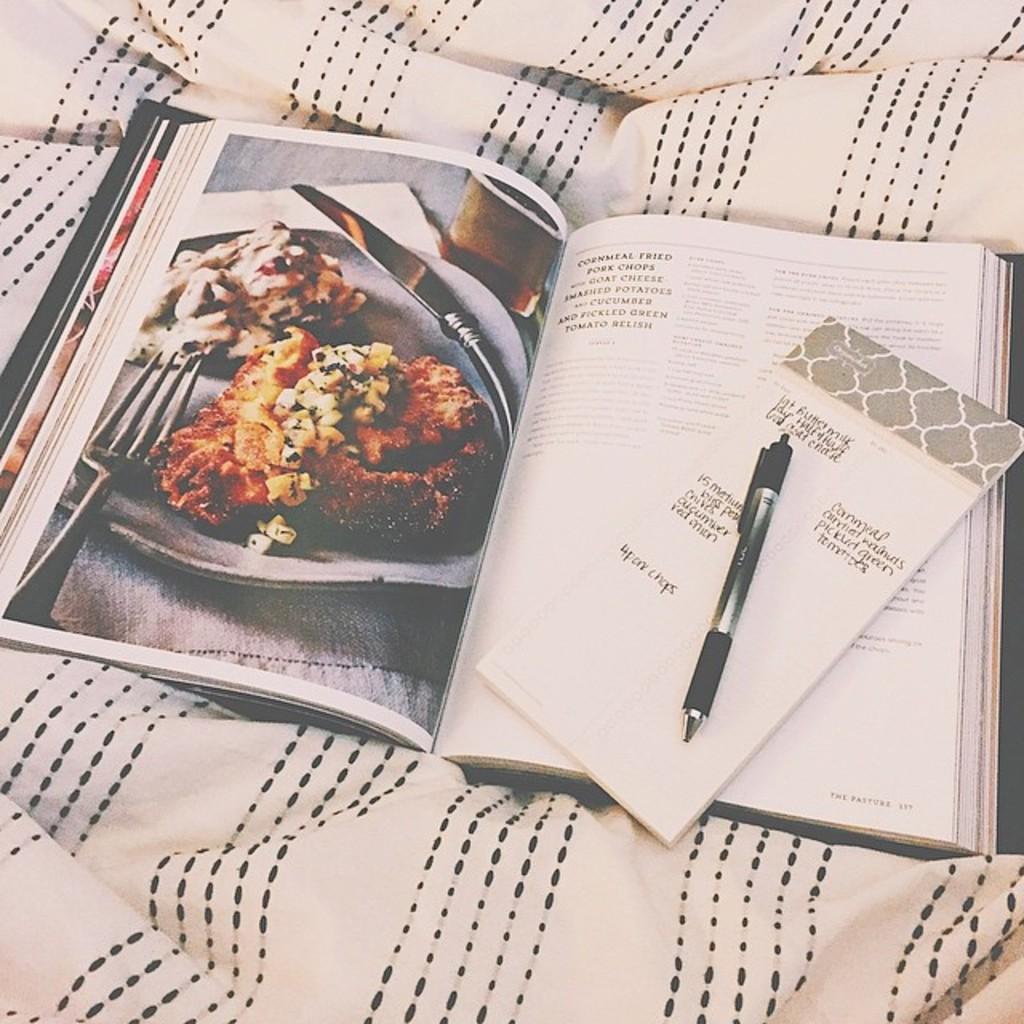Pen: (680, 434, 790, 760)
